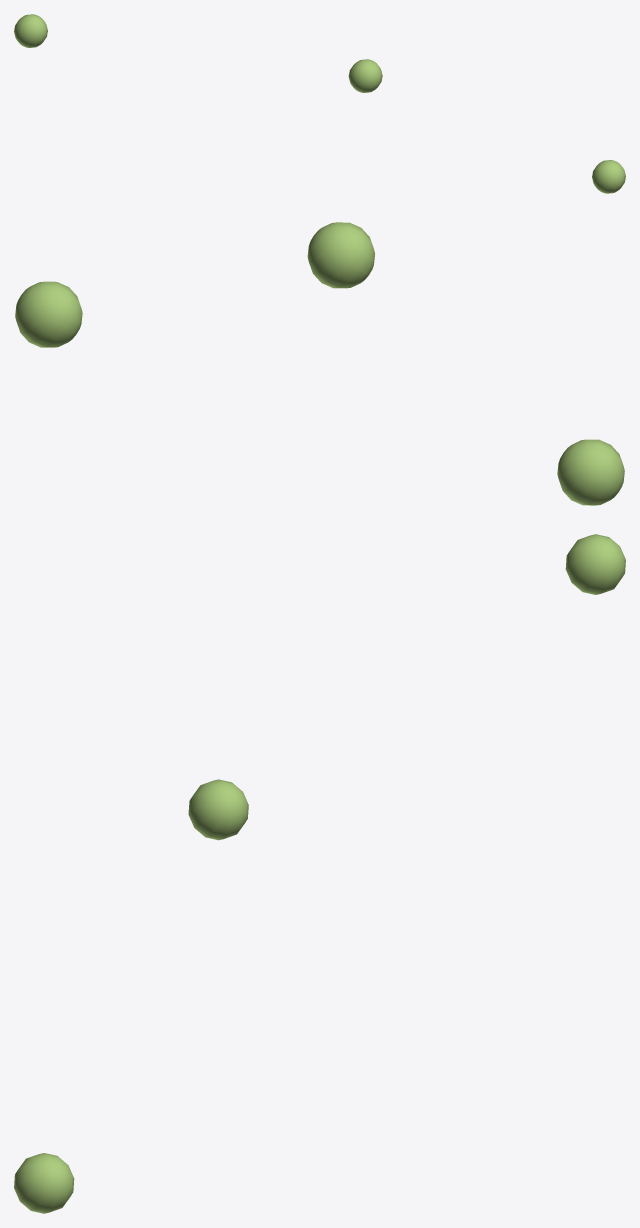
The model's file is middle-colic-nodes.glb.
3 renders of one model, top to bottom at view 1: azimuth 30°, elevation 25°; view 2: azimuth 150°, elevation 25°; view 3: azimuth 270°, elevation 25°, orthographic. The views are drawn at different scales.
Parts seen in each view (by area): view 1: Middle colic nodes; view 2: Middle colic nodes; view 3: Middle colic nodes.
Boxes of the visible parts, x1,y1,x2,y2 form: Middle colic nodes: (14, 14, 625, 193); Middle colic nodes: (15, 222, 624, 505); Middle colic nodes: (14, 534, 625, 1213).
Size of the model in its own units: 0.04 by 0.0141 by 0.026.
